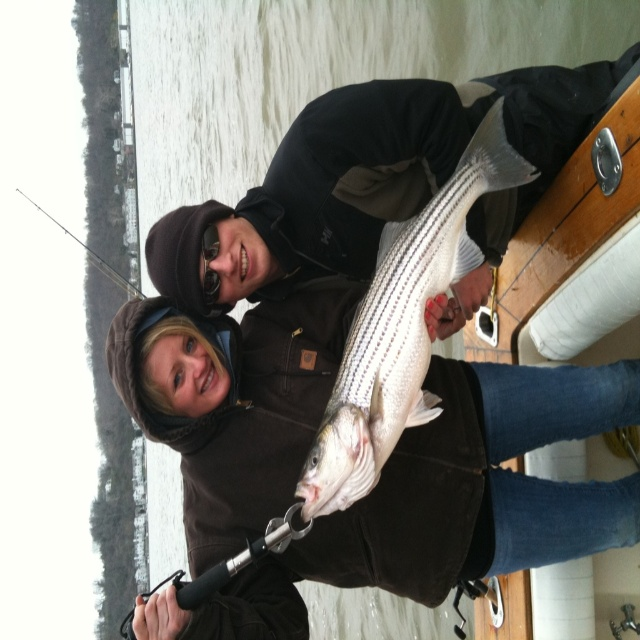Fish: (273, 103, 517, 595)
